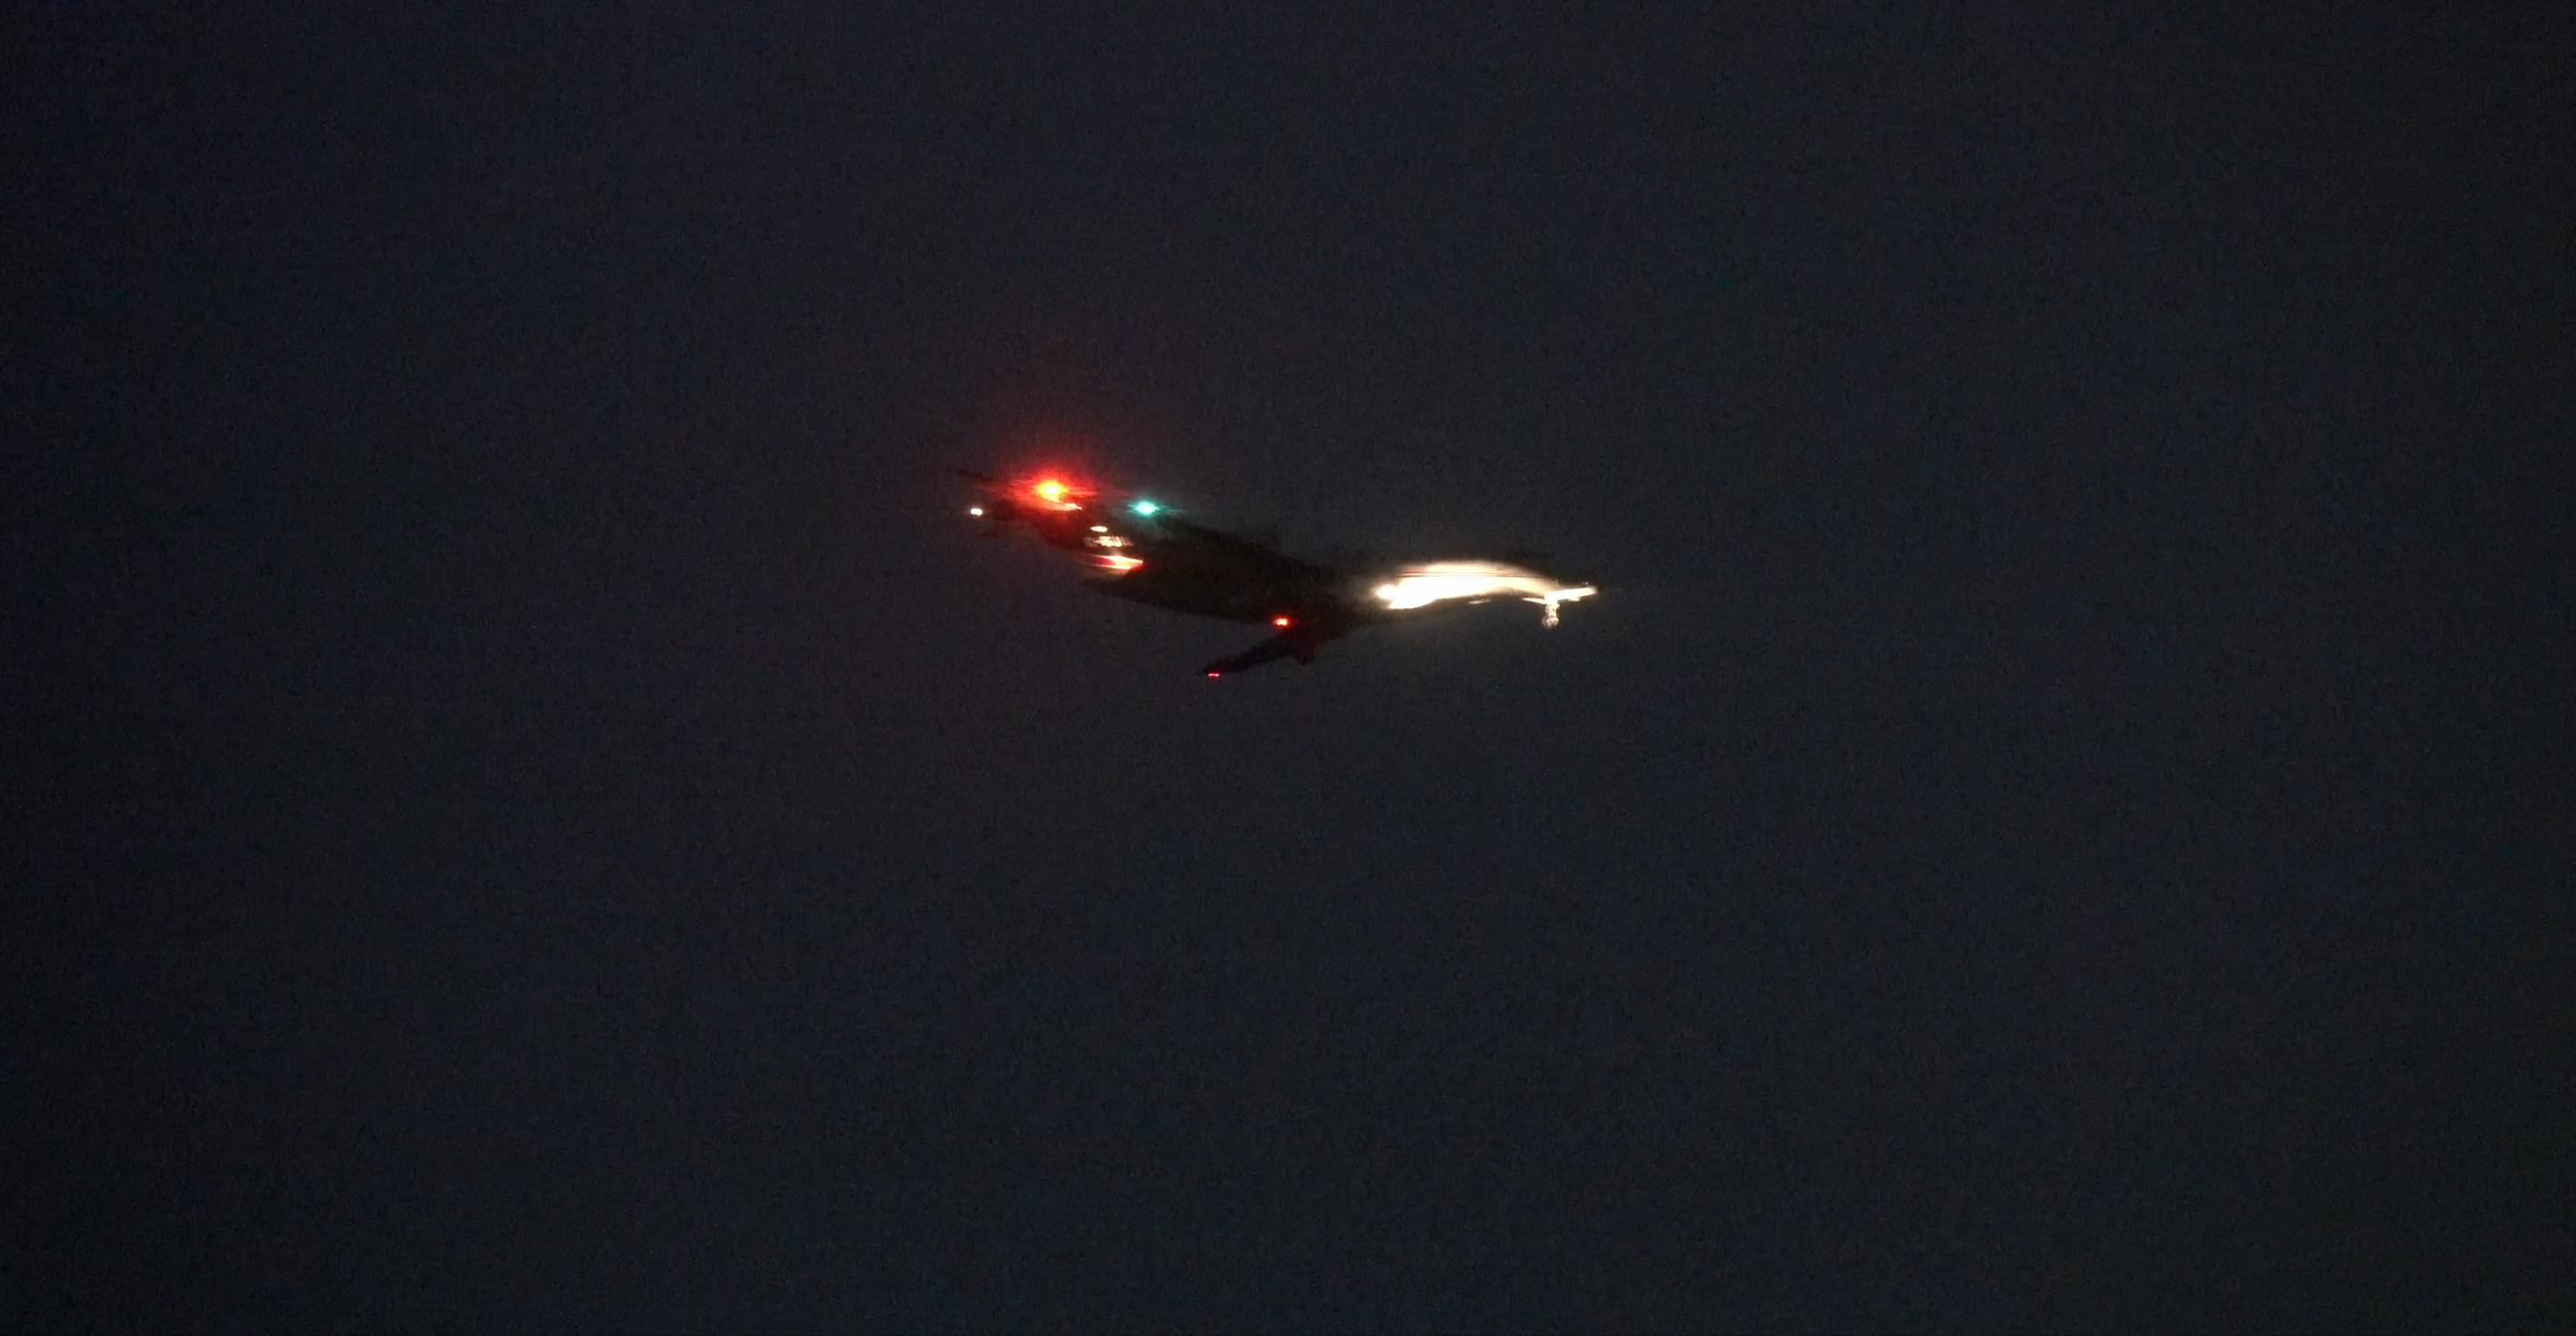Plane: (927, 523, 1583, 723)
